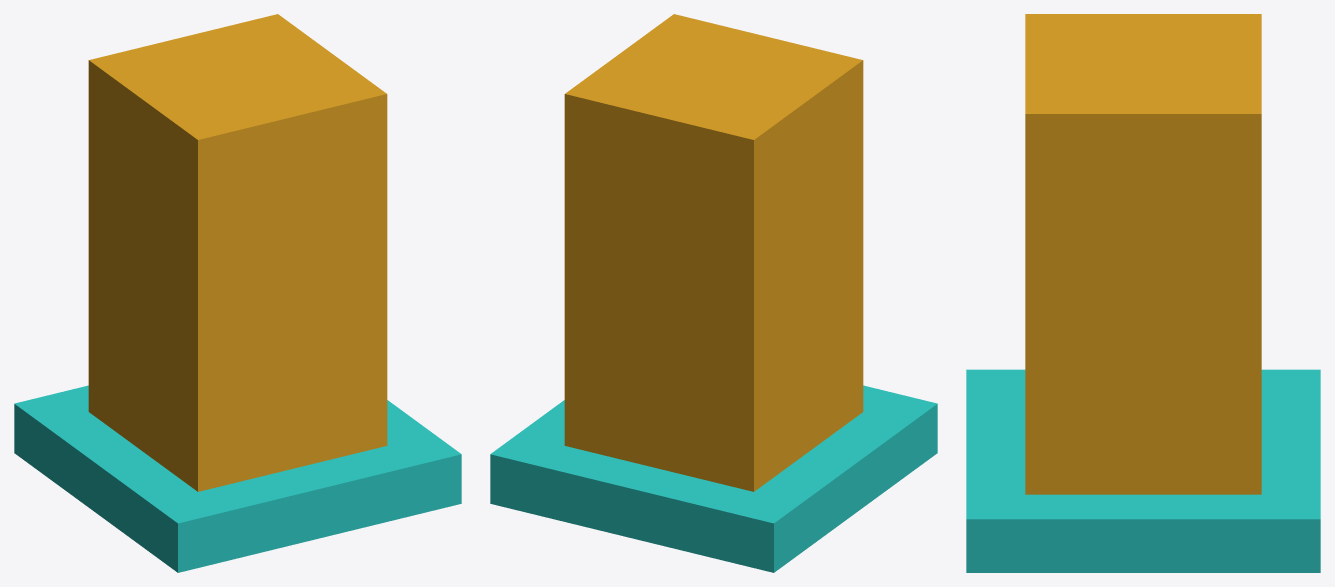
The model's file is emaildna.gltf.
3 renders of one model, left to right at view 1: azimuth 30°, elevation 25°; view 2: azimuth 150°, elevation 25°; view 3: azimuth 270°, elevation 25°, orthographic. The views are drawn at different scales.
Visible parts, largest first — view 1: Cube.002, Cube; view 2: Cube.002, Cube; view 3: Cube.002, Cube.
Part boxes in pixels (<box>): Cube.002: <box>88,14,387,491</box>; Cube: <box>14,385,461,572</box>; Cube.002: <box>564,14,863,491</box>; Cube: <box>490,385,937,572</box>; Cube.002: <box>1025,14,1261,494</box>; Cube: <box>966,369,1320,572</box>.
Bounding box in the file's own units: 3 × 4.06 × 3.
